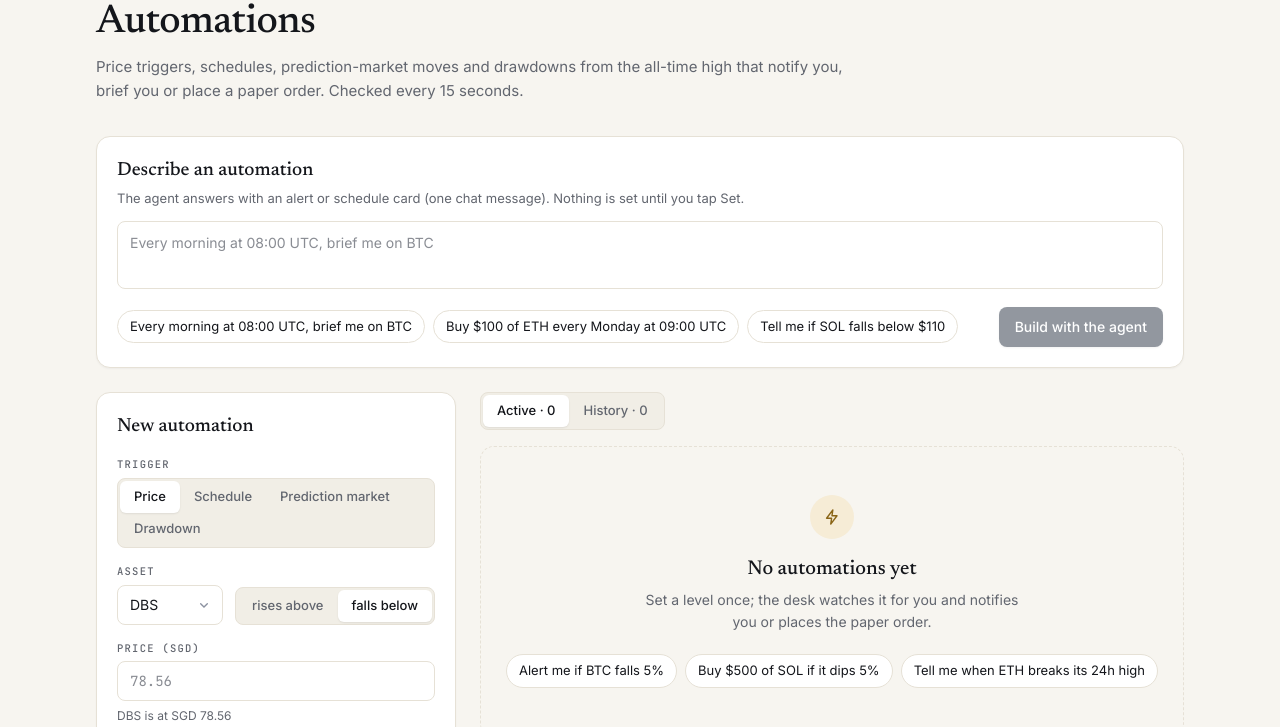
Test: AutomationsPage · a level in local currency › creates a foreign notify alert in the listing currency and validates against its listing price
The width and height of the screenshot is (1280, 727).
expect the text "DBS is at SGD 78.56" is shown: met, box x1=117 y1=708 x2=232 y2=723
Type "80" into the number field labelled "Price (SGD)" at [276, 681], box x1=117 y1=661 x2=435 y2=701
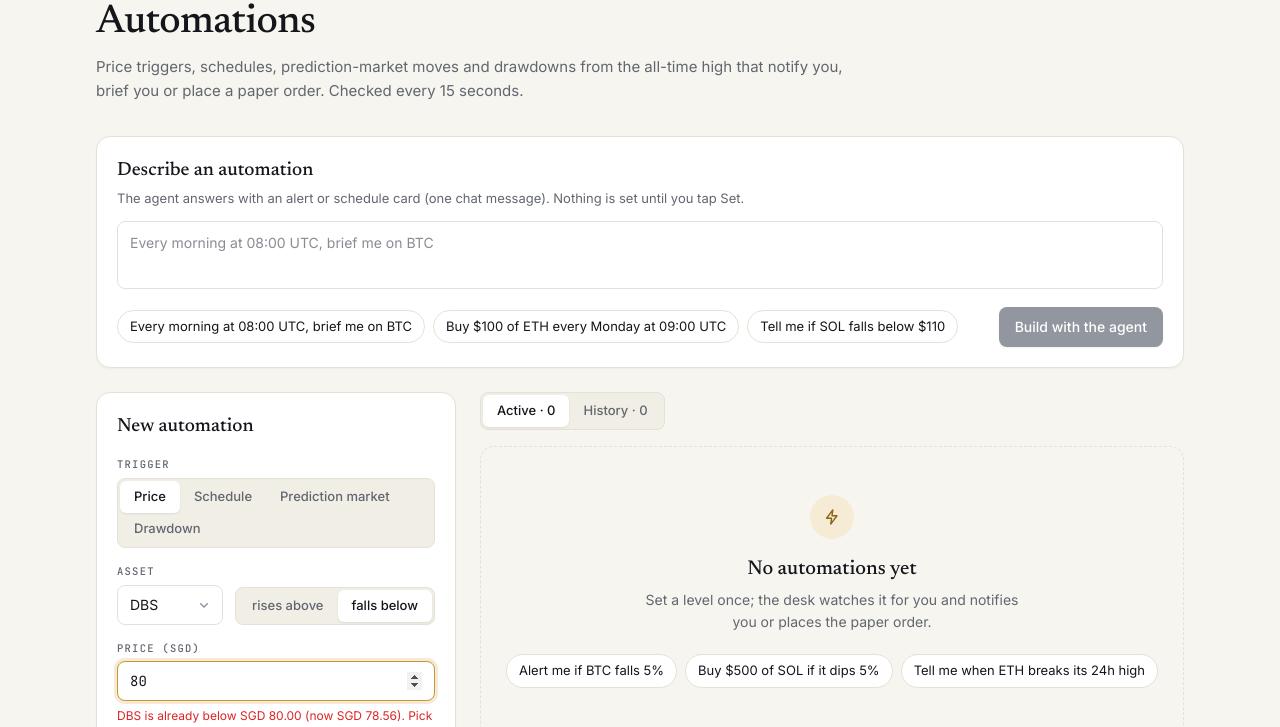
Replace the text in the number field labelled "Price (SGD)" with "75" at [276, 681], box x1=117 y1=661 x2=435 y2=701
(page scrolled)
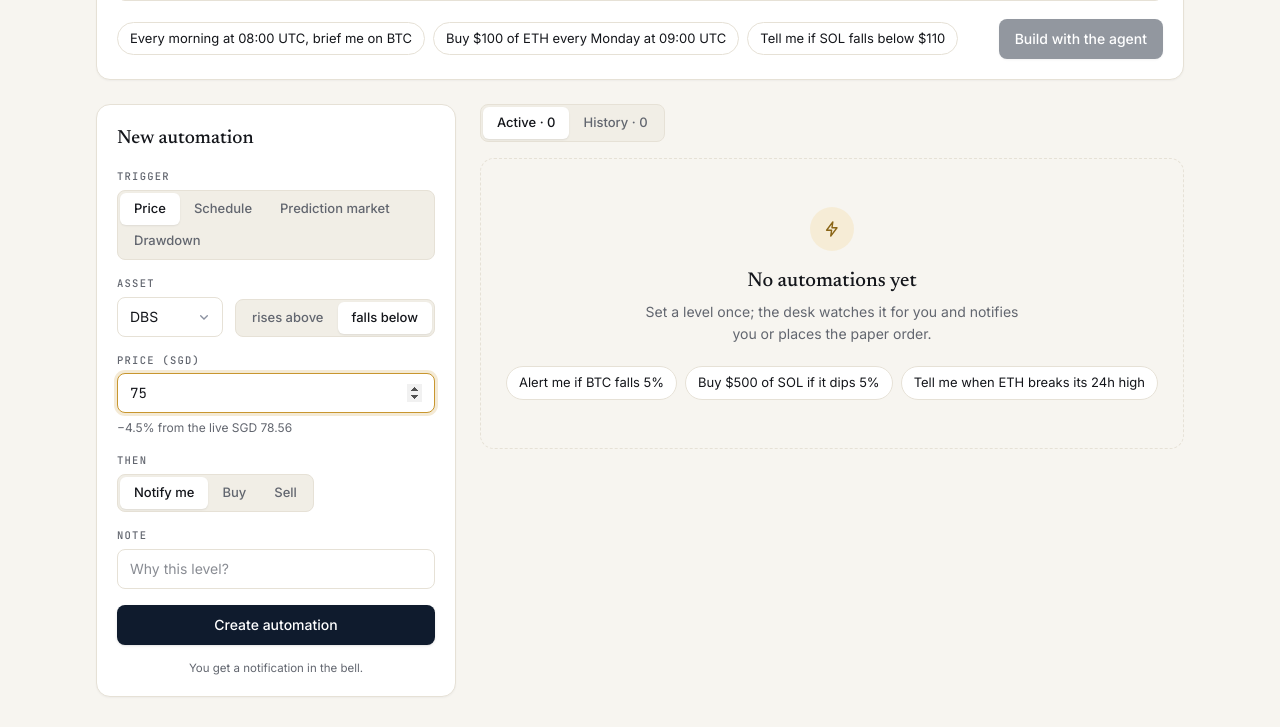
expect the text "−4.5% from the live SGD 78.56" is shown: met, box x1=117 y1=420 x2=292 y2=435
Click the button "Create automation" at [276, 625], box x1=117 y1=605 x2=435 y2=645
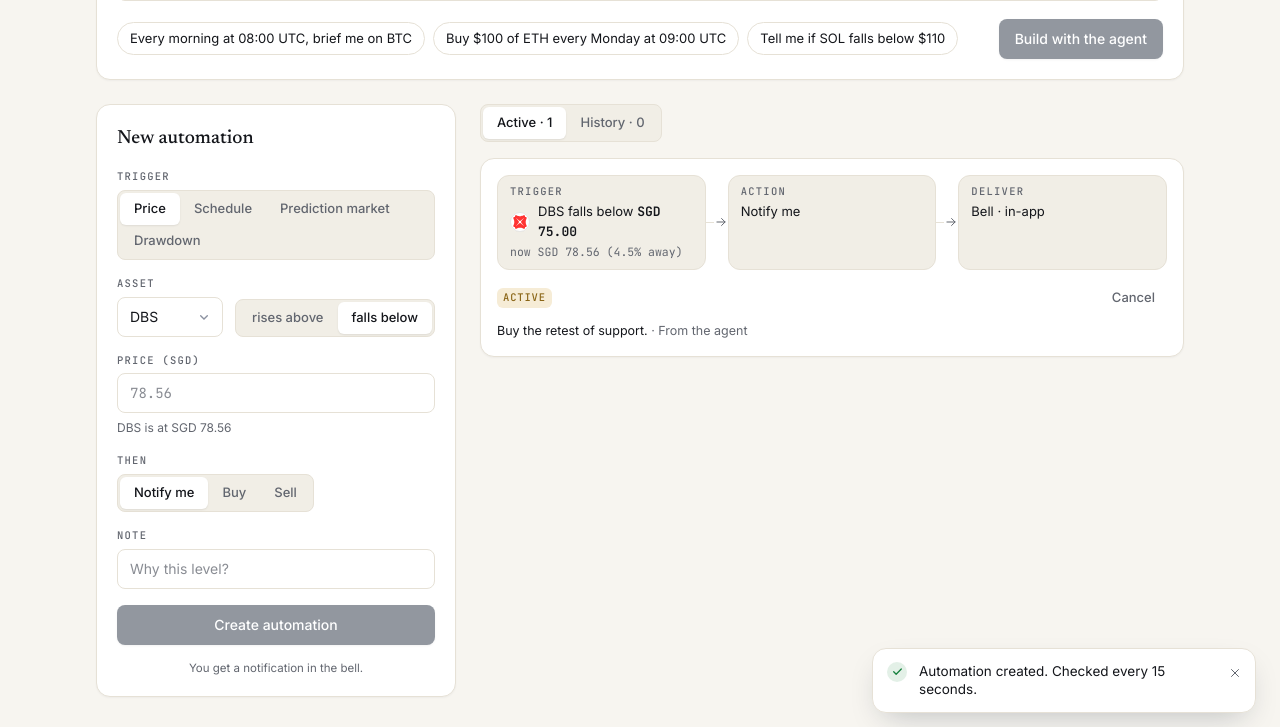
expect the text "Automation created. Checked every 15 seconds." is shown: met, box x1=919 y1=663 x2=1165 y2=698
